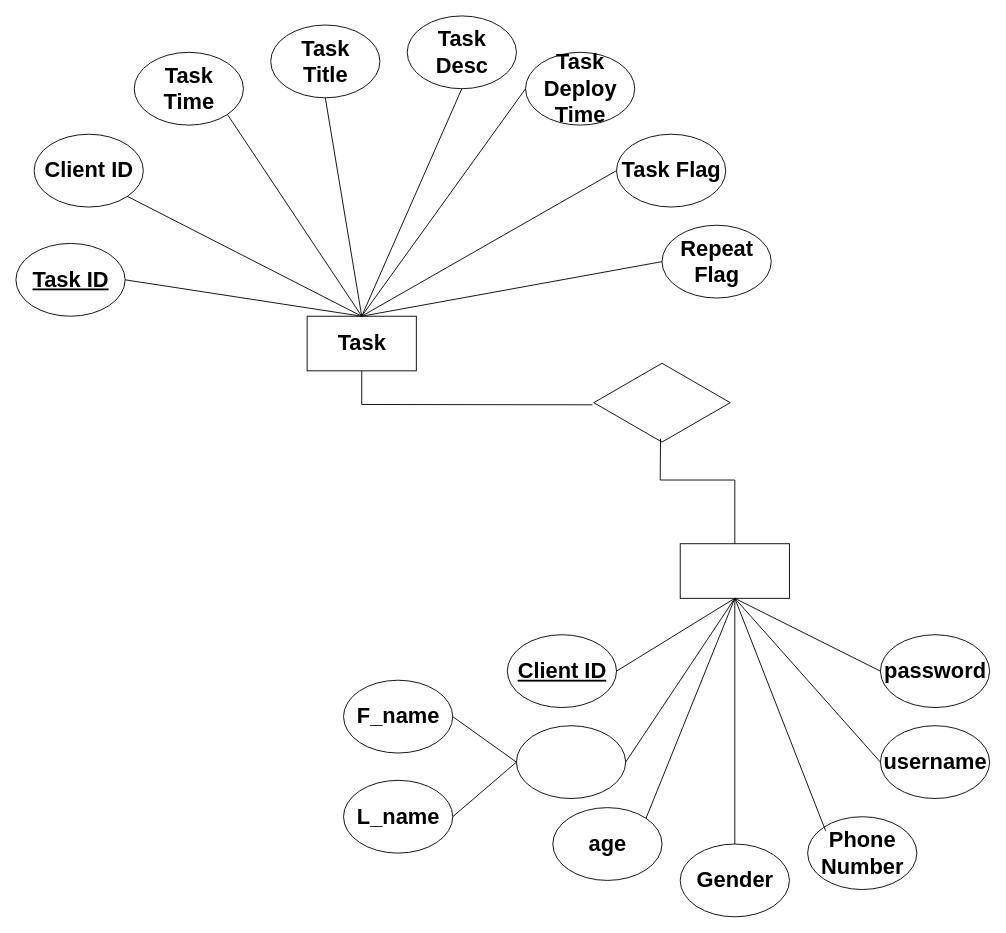
Some shapes in this 1006 by 933 pixel diagram are drawn without their labels. The centre of each missing label's shape, as x and y in pixels:
"Client" belongs at pixel 734 570.
"has" belongs at pixel 661 402.
"Name" belongs at pixel 571 762.
